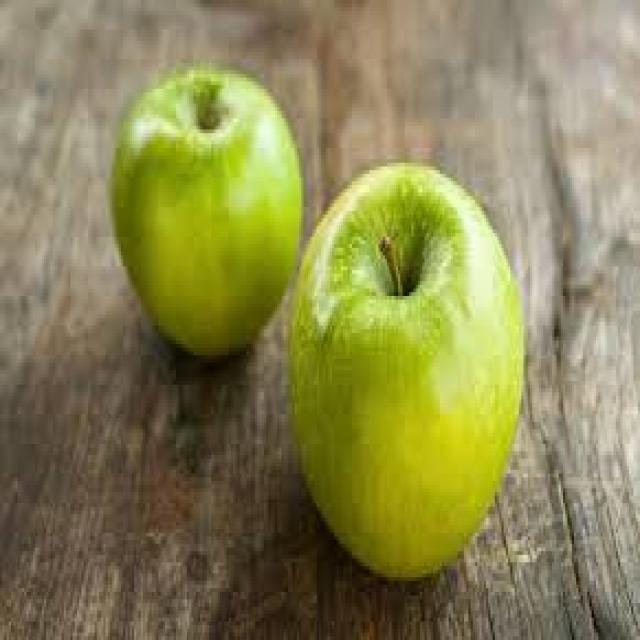50-_ripeness: (290, 148, 537, 577), (104, 55, 308, 368)
